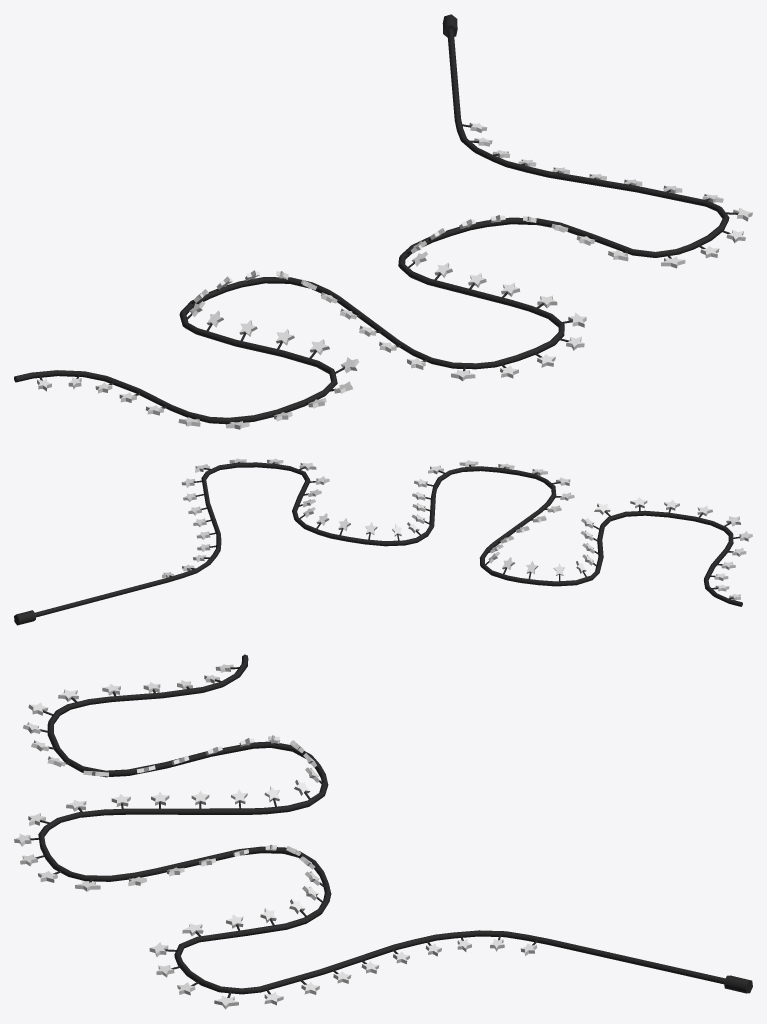
The model's file is ChristmasChainLight_05.fbx.
3 renders of one model, top to bottom at view 1: azimuth 30°, elevation 25°; view 2: azimuth 150°, elevation 25°; view 3: azimuth 270°, elevation 25°, orthographic. The views are drawn at different scales.
Visible parts, largest first — view 1: ChristmasChainLight_05; view 2: ChristmasChainLight_05; view 3: ChristmasChainLight_05.
Part boxes in pixels (<box>): ChristmasChainLight_05: <box>14,14,752,429</box>; ChristmasChainLight_05: <box>14,458,752,625</box>; ChristmasChainLight_05: <box>14,654,752,1009</box>.
Size of the model in its own units: 1.81 by 0.0661 by 1.64.
